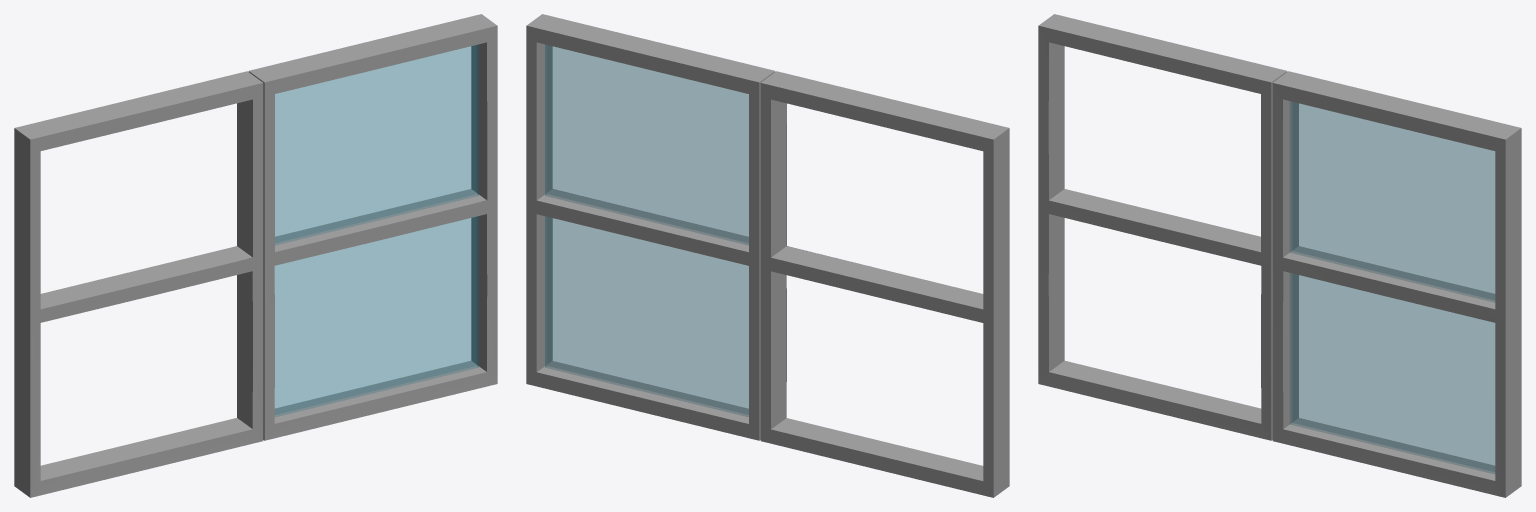
Rendered from VentanaSM.fbx.
The picture shows the model from 3 angles, left to right: view 1: azimuth 30°, elevation 25°; view 2: azimuth 150°, elevation 25°; view 3: azimuth 330°, elevation 25°; orthographic projection.
Parts seen in each view (by area): view 1: polySurface465; view 2: polySurface465; view 3: polySurface465.
Boxes of the visible parts, <box> form: polySurface465: <box>14,14,497,497</box>; polySurface465: <box>526,14,1009,497</box>; polySurface465: <box>1038,14,1521,497</box>.
Bounding box in the file's own units: 5.02 × 3.68 × 0.297.
